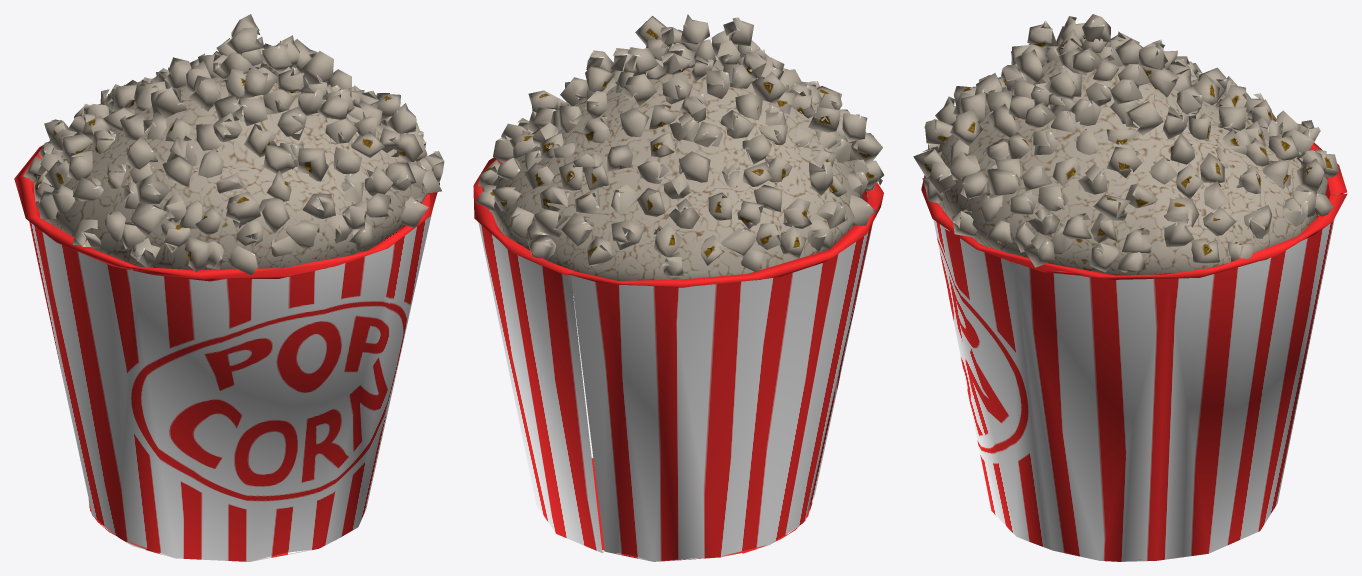
The model's file is piece5.glb.
3 views of the same model, side by side, from view 1: azimuth 30°, elevation 25°; view 2: azimuth 150°, elevation 25°; view 3: azimuth 270°, elevation 25° (orthographic). The views are drawn at different scales.
Parts seen in each view (by area): view 1: Object_5.002; view 2: Object_5.002; view 3: Object_5.002.
Boxes of the visible parts, x1=… form: Object_5.002: x1=14, y1=14, x2=444, y2=561; Object_5.002: x1=473, y1=14, x2=884, y2=561; Object_5.002: x1=913, y1=14, x2=1347, y2=561.
Bounding box in the file's own units: 0.1219 × 0.155 × 0.1251.
Materials: 1 (1 with a texture image).
